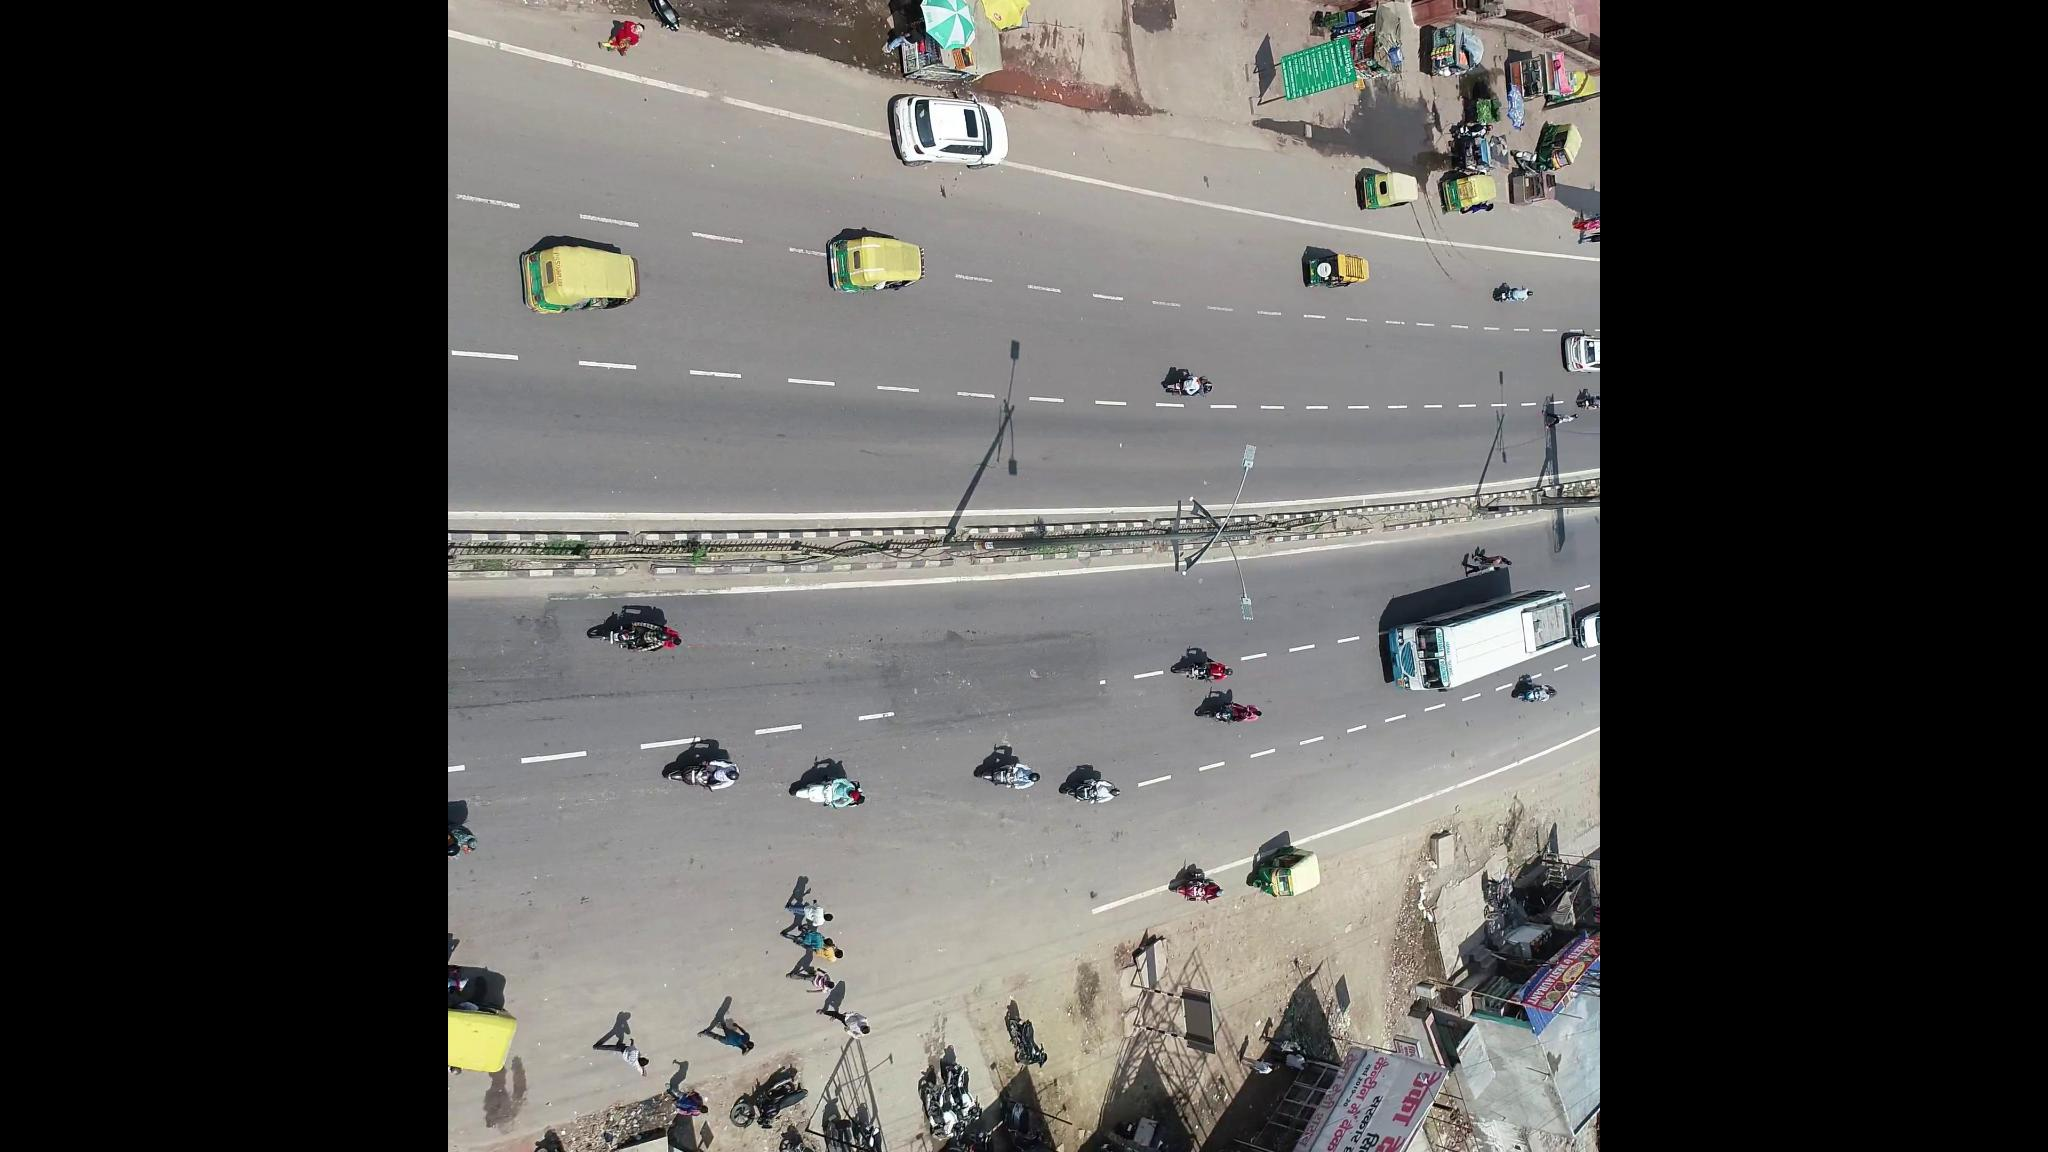Potholes: (1017, 655, 1068, 693)
